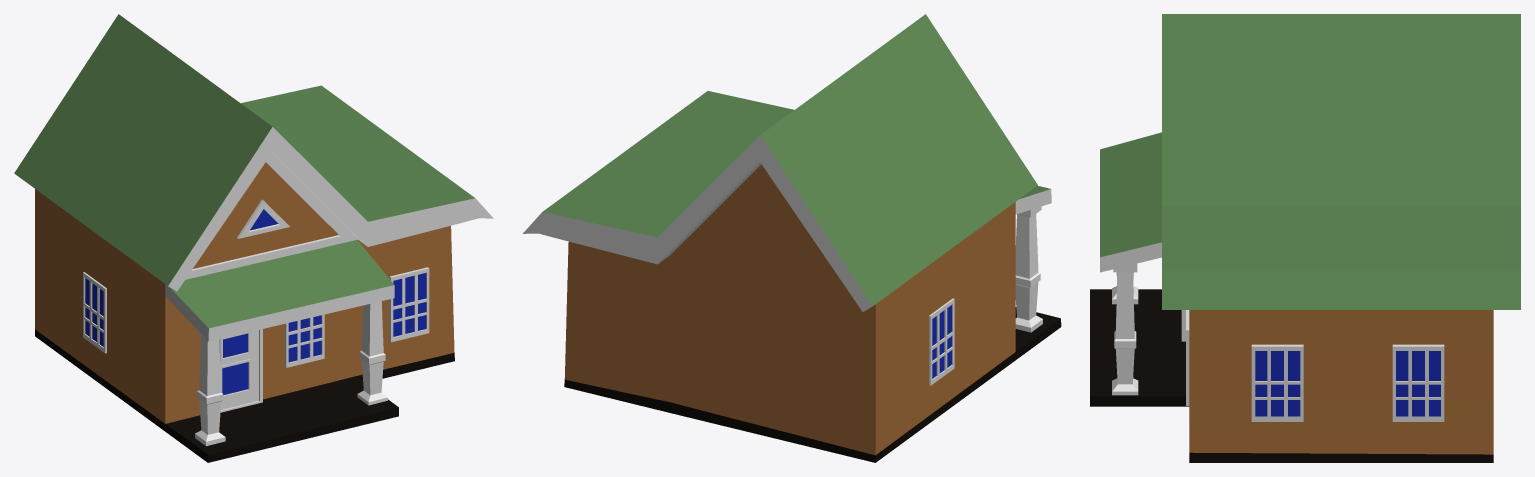
Rendered from Дом.fbx.
The picture shows the model from 3 angles, left to right: view 1: azimuth 30°, elevation 25°; view 2: azimuth 150°, elevation 25°; view 3: azimuth 270°, elevation 25°; orthographic projection. The views are drawn at different scales.
Visible parts, largest first — view 1: House, Door, Window001, Столб1, Столб, Window004, Window005; view 2: House, Столб1, Window005; view 3: House, Window002, Window003, Столб.
Boxes of the visible parts, box(x1,y1,x2,y2) form: House: box(14, 14, 493, 462); Door: box(219, 329, 262, 412); Window001: box(389, 267, 429, 342); Столб1: box(195, 329, 225, 446); Столб: box(357, 301, 387, 405); Window004: box(284, 314, 324, 367); Window005: box(83, 272, 106, 353); House: box(523, 14, 1061, 462); Столб1: box(1015, 206, 1042, 332); Window005: box(929, 298, 954, 385); House: box(1090, 14, 1520, 462); Window002: box(1251, 344, 1303, 421); Window003: box(1392, 344, 1444, 421); Столб: box(1112, 263, 1138, 395).
Bounding box in the file's own units: 58.03 × 49.44 × 57.02.
